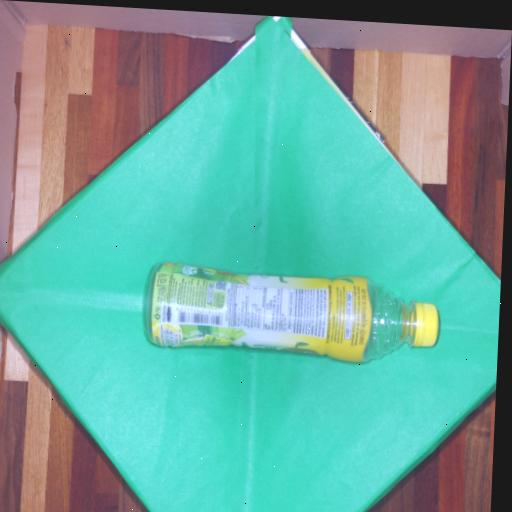bottle: (147, 263, 438, 361)
